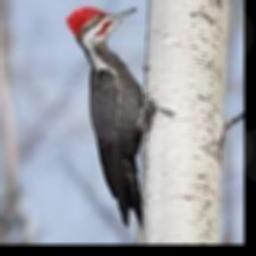Woodpecker: (66, 7, 152, 230)
